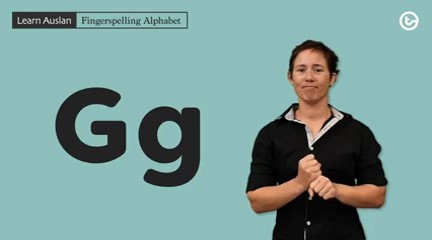G: (296, 152, 337, 205)
